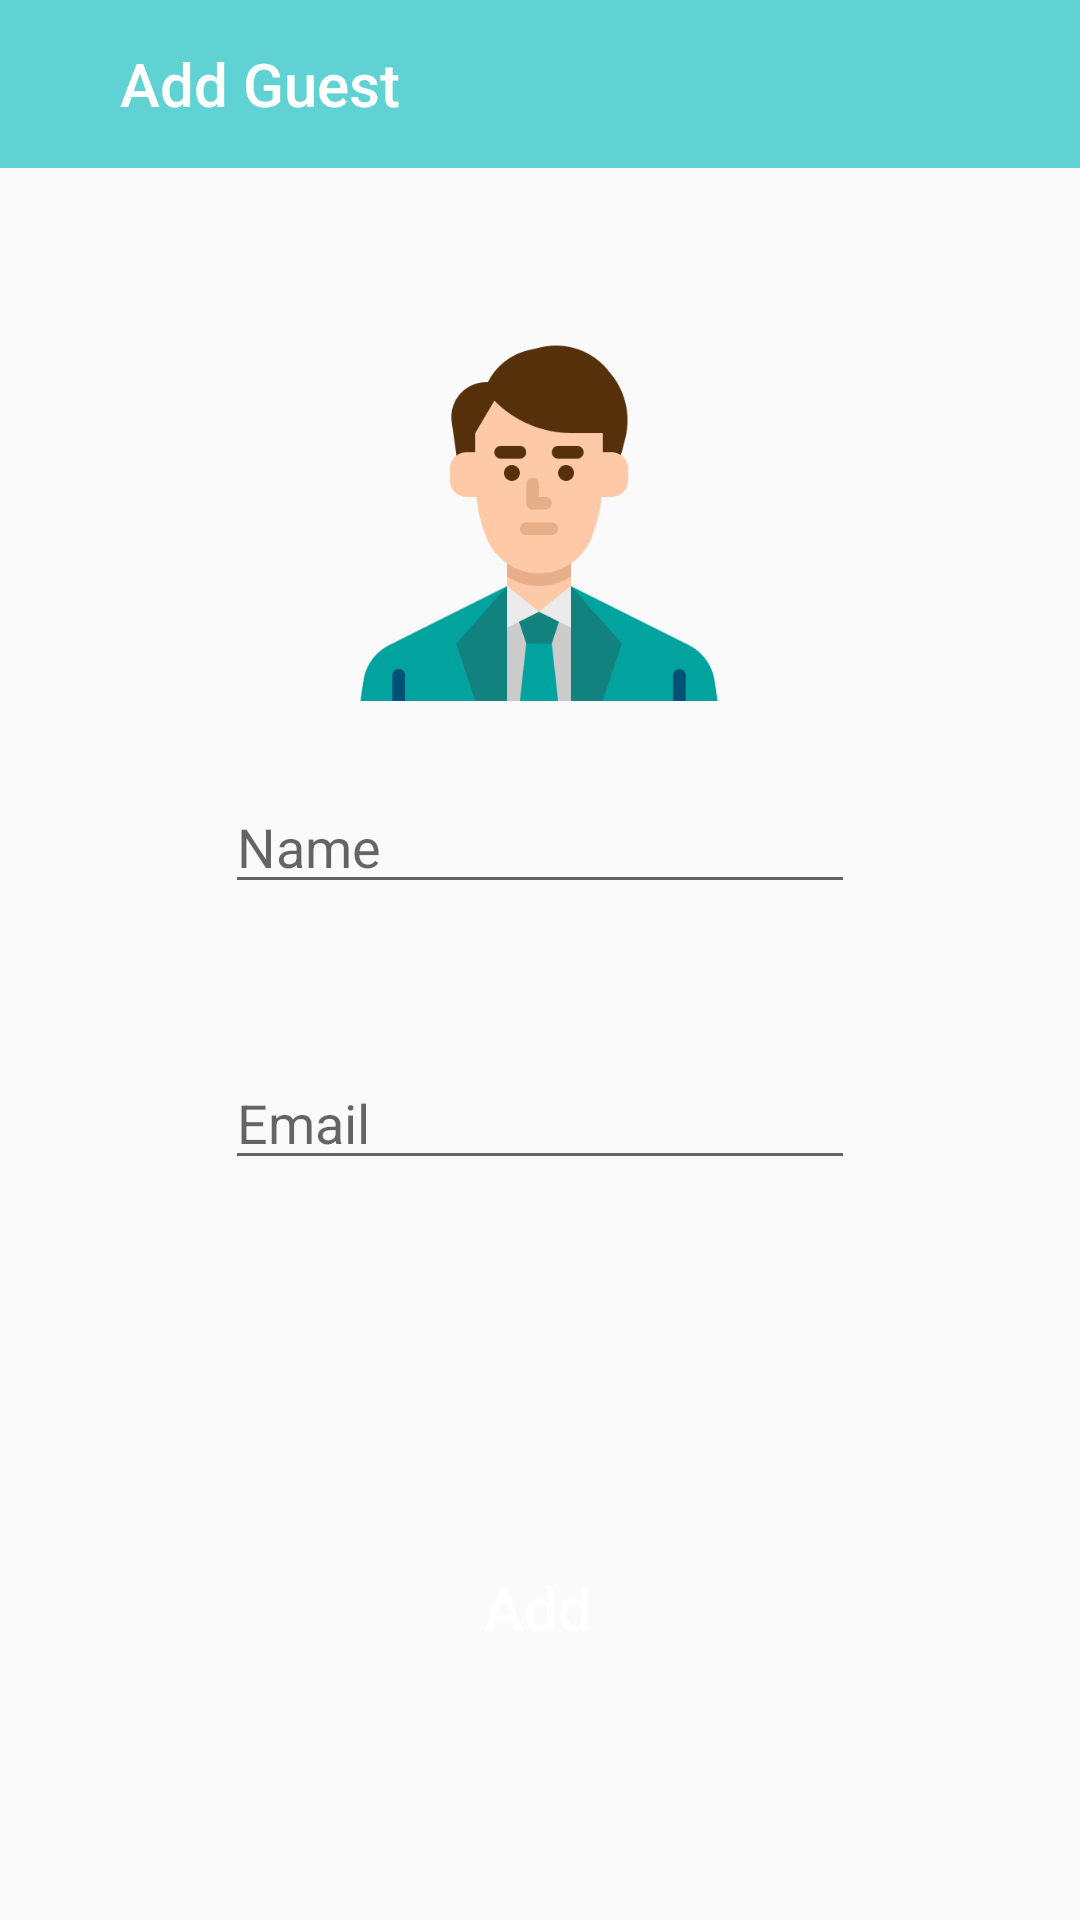

Icon click points for this 1080×1920 phone screenshot, format point (x, y):
person: point (539, 523)
